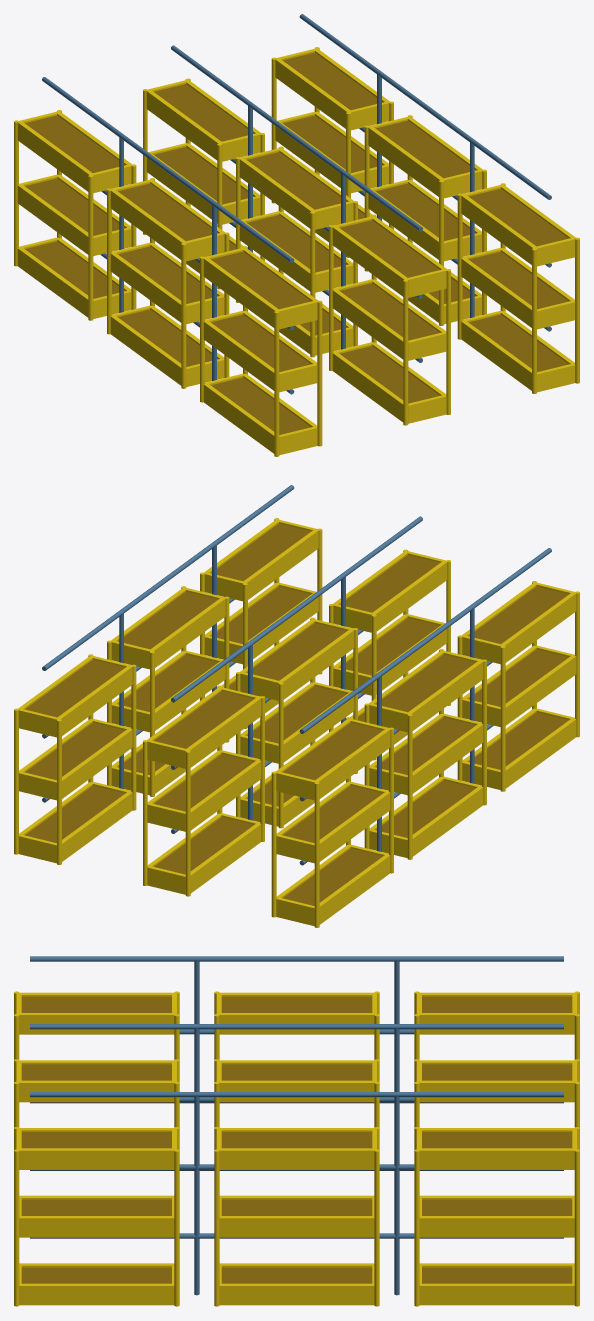
The model's file is icuas24_wrld_notxt.dae.
3 renders of one model, top to bottom at view 1: azimuth 30°, elevation 25°; view 2: azimuth 150°, elevation 25°; view 3: azimuth 270°, elevation 25°, orthographic. The views are drawn at different scales.
Visible parts, largest first — view 1: Cube.005, Cube.014, Cube.026, Cube.017, Cube.004, Cube.015, Cube.002, Cube.027, Cube.020, Cube.011, Cube.024, Cube.007 (+58 smaller); view 2: Cube.008, Cube.011, Cube.023, Cube.009, Cube.016, Cube.003, Cube.053, Cube.021, Cube.022, Cube.014, Cube.024, Cube.005 (+58 smaller); view 3: Cube.022, Cube.020, Cube.019, Cube.027, Cube.021, Cube.025, Cube.026, Cube.023, Cube.024, Cube.008, Cube.005, Cube.007 (+32 smaller).
Part boxes in pixels (x1,y1,x2,y2): Cube.005: (332,216,448,297); Cube.014: (203,247,319,329); Cube.026: (460,185,576,266); Cube.017: (332,342,446,423); Cube.004: (332,279,446,360); Cube.015: (203,310,317,392); Cube.002: (203,373,317,455); Cube.027: (461,248,575,329); Cube.020: (461,310,575,392); Cube.011: (17,111,133,193); Cube.024: (368,116,483,198); Cube.007: (239,147,353,229); Cube.008: (145,687,261,768); Cube.011: (274,718,390,800); Cube.023: (17,656,132,737); Cube.009: (147,813,261,894); Cube.016: (147,750,261,831); Cube.003: (276,781,390,863); Cube.053: (276,844,390,926); Cube.021: (18,719,132,800); Cube.022: (18,781,132,863); Cube.014: (461,582,577,664); Cube.024: (110,587,225,669); Cube.005: (332,550,447,632); Cube.022: (419,1263,574,1305); Cube.020: (19,1263,174,1305); Cube.019: (219,1263,374,1305); Cube.027: (19,1195,174,1237); Cube.021: (419,1195,574,1237); Cube.025: (219,1195,374,1237); Cube.026: (16,1128,176,1169); Cube.023: (417,1128,577,1169); Cube.024: (217,1128,376,1169); Cube.008: (417,1060,577,1102); Cube.005: (16,1060,176,1102); Cube.007: (217,1060,376,1102).
Bounding box in the file's own units: 14.2 × 21.2 × 8.35.
